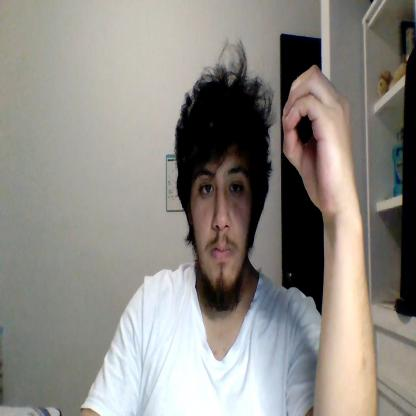O: (282, 65, 350, 209)
